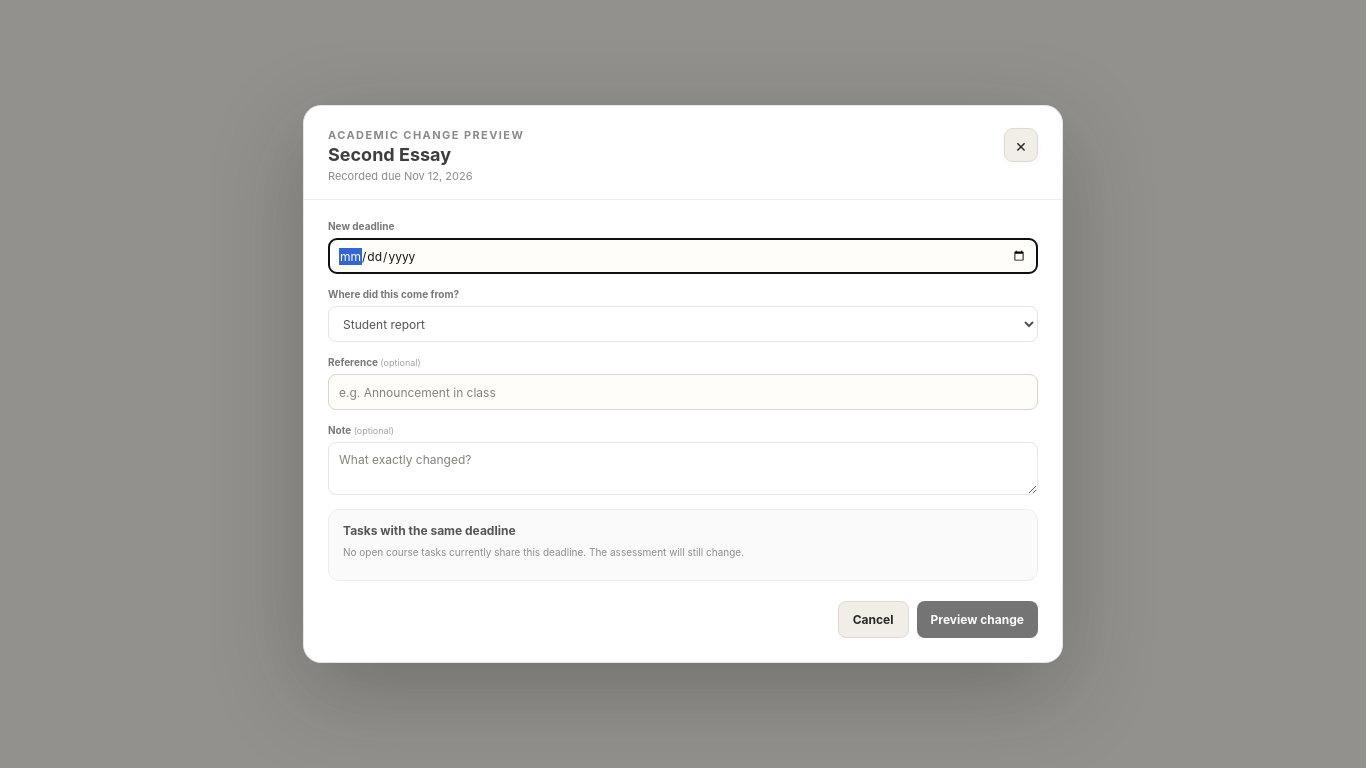
DeadlineChangeDialog › offers retry for a partial failure and undo only when reversible
Type "2026-11-20" into the date field labelled "New deadline" at (683, 256), box [328,238,1038,274]
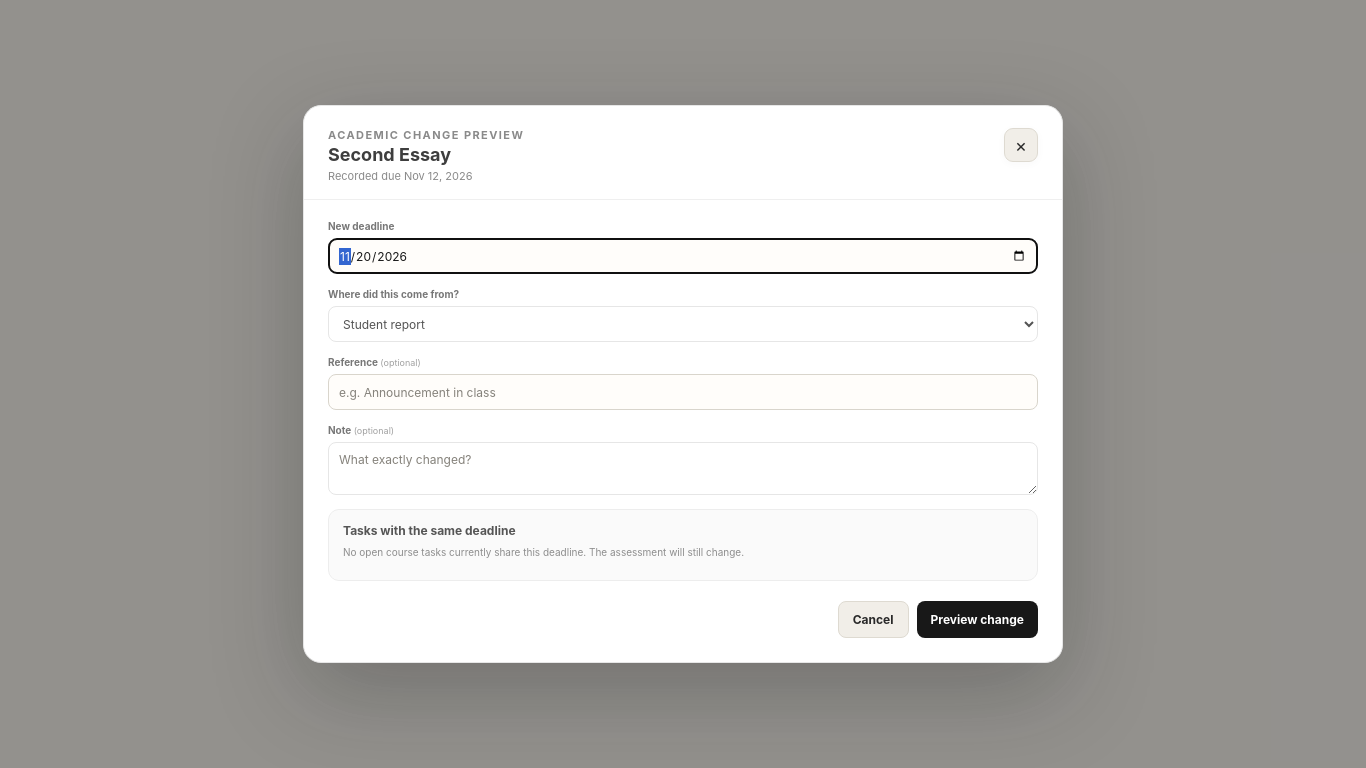
Click the button "Preview change" at (977, 619), box [916,601,1038,638]
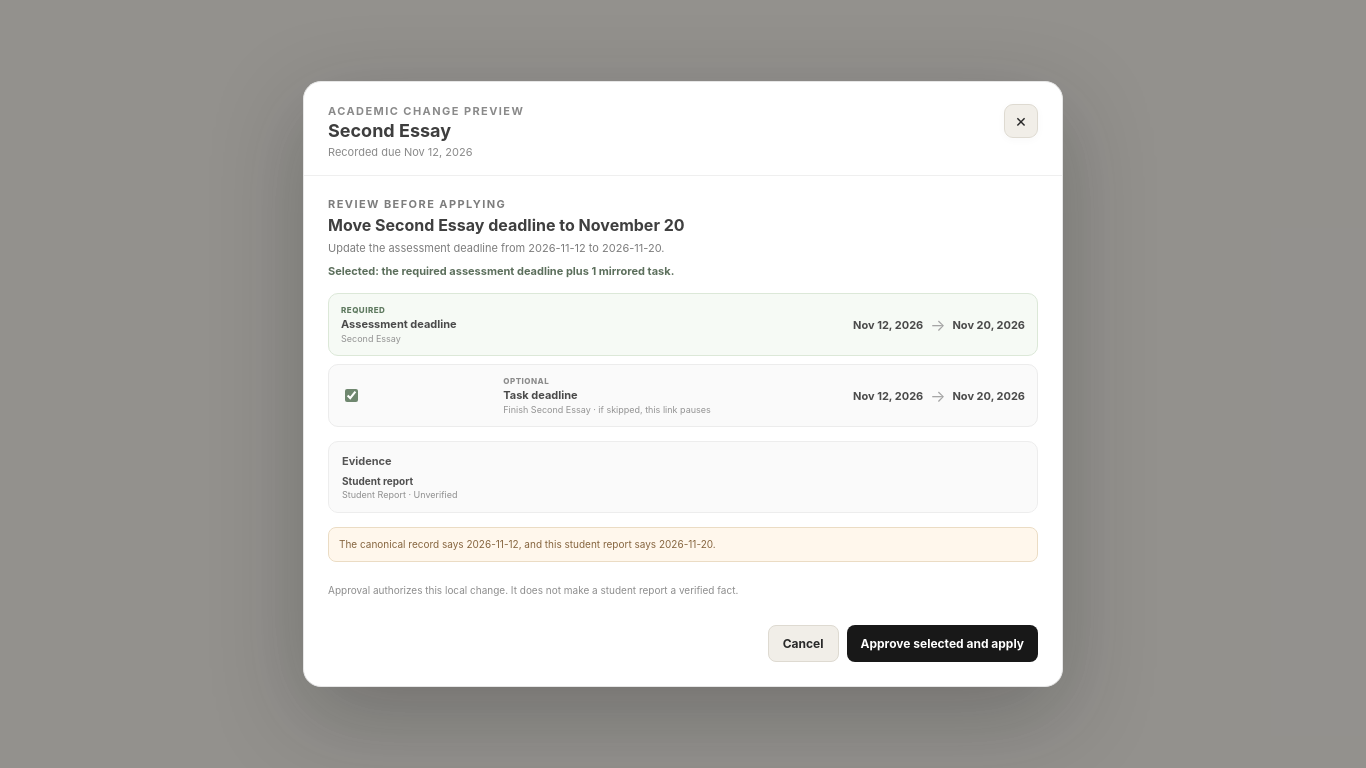
Expected: the text "Review before applying" is shown, [328,197,506,211]
Click the button "Approve selected and apply" at (942, 644), box [846,625,1038,662]
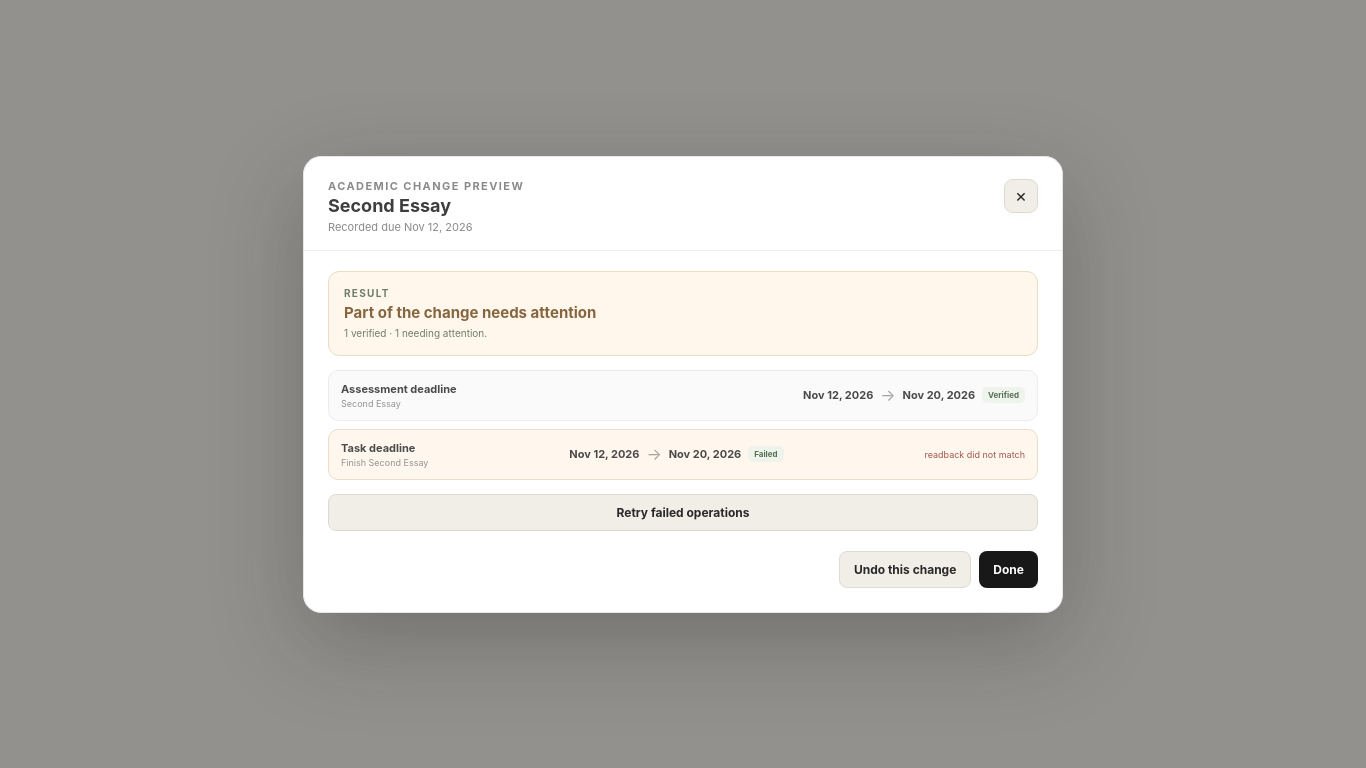
Expected: the heading "Part of the change needs attention" is shown, [344,302,596,322]
Expected: the button "Retry failed operations" is shown, [328,494,1038,530]
